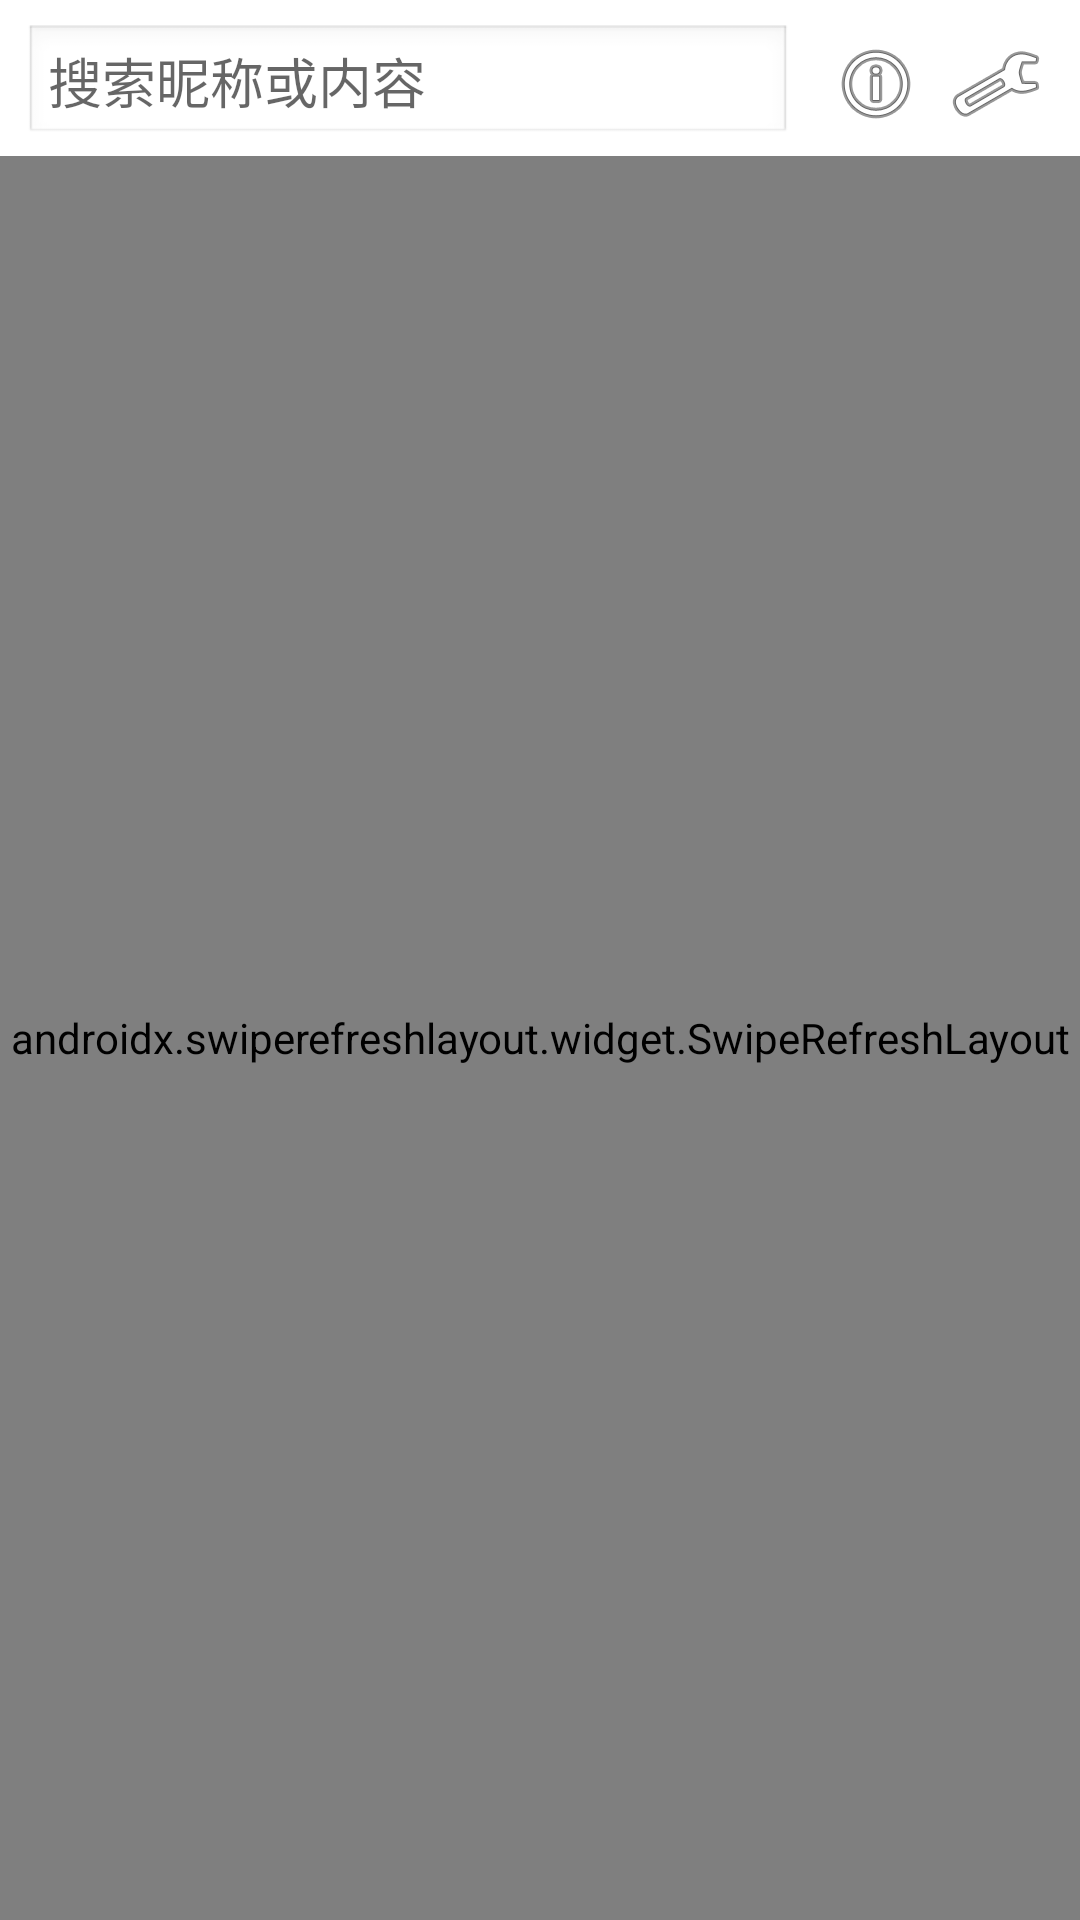

Where icons sit on this 1080×1920 app screen, as (x1, y1, x2, y2):
设置: (953, 51, 1039, 117)
